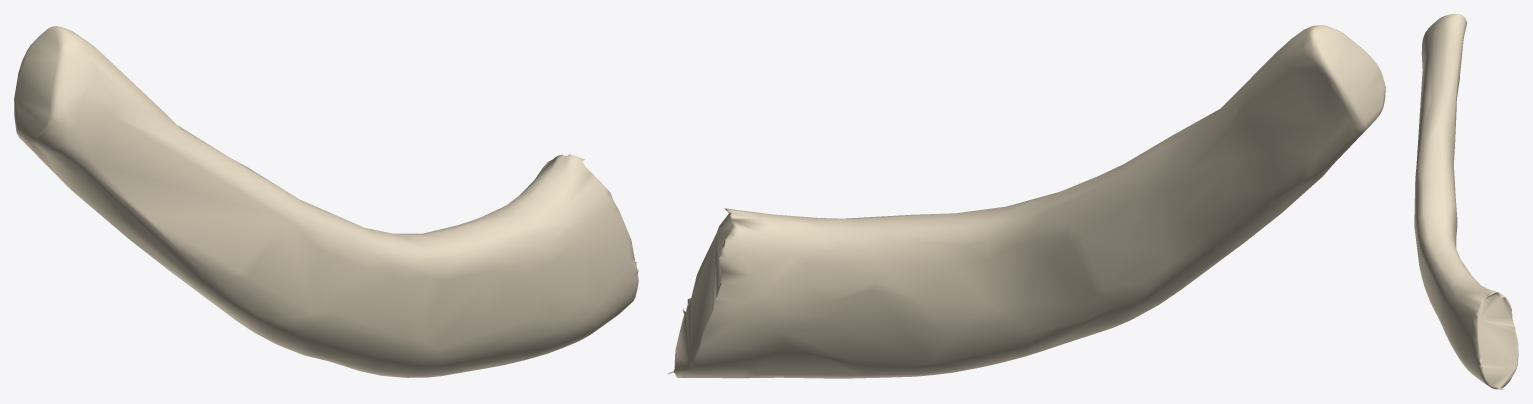
The model's file is costal-cartilage-of-sixth-rib-l.glb.
The picture shows the model from 3 angles, left to right: view 1: azimuth 30°, elevation 25°; view 2: azimuth 150°, elevation 25°; view 3: azimuth 270°, elevation 25°; orthographic projection. The views are drawn at different scales.
Visible parts, largest first — view 1: Costal cartilage of sixth rib.l; view 2: Costal cartilage of sixth rib.l; view 3: Costal cartilage of sixth rib.l.
Boxes of the visible parts, box(x1,y1,x2,y2) form: Costal cartilage of sixth rib.l: box(14, 26, 638, 377); Costal cartilage of sixth rib.l: box(667, 25, 1385, 378); Costal cartilage of sixth rib.l: box(1414, 14, 1518, 389).
Bounding box in the file's own units: 0.0828 × 0.0558 × 0.0229.
